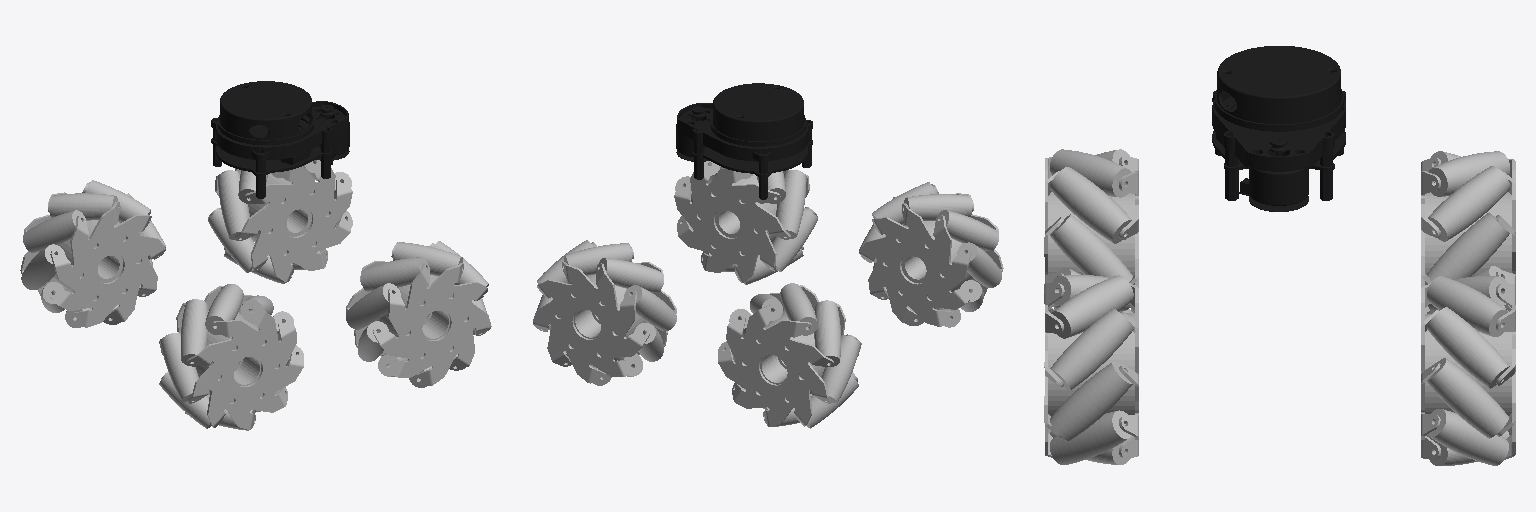
robot.urdf — rubot:
<?xml version="1.0" encoding="utf-8"?>
<!-- =================================================================================== -->
<!-- |    This document was autogenerated by xacro from rubot_mecanum.xacro            | -->
<!-- |    EDITING THIS FILE BY HAND IS NOT RECOMMENDED                                 | -->
<!-- =================================================================================== -->
<robot name="rubot">
  <material name="yellow">
    <color rgba="0.8 0.8 0.0 1.0"/>
  </material>
  <material name="black">
    <color rgba="0.15 0.15 0.15 1.0"/>
  </material>
  <material name="dark_grey">
    <color rgba="0.2 0.2 0.2 1.0"/>
  </material>
  <material name="light_grey">
    <color rgba="0.75 0.75 0.75 1.0"/>
  </material>

<!-- base_footprint reference frame without inertia is needed -->
  <link name="base_footprint"/>
<!-- base_link -->
  <joint name="base_link_joint" type="fixed">
    <origin rpy="0 0 0" xyz="0 0 0"/>
    <parent link="base_footprint"/>
    <child link="base_link"/>
  </joint>
  <link name="base_link">
    <visual>
      <origin rpy="0 0 0" xyz="0 0 0"/>
      <geometry>
        <mesh filename="package://rubot_mecanum_description/meshes/rubot/base_link.stl" scale="0.001 0.001 0.001"/>
      </geometry>
      <material name="yellow"/>
    </visual>
    <collision>
      <origin xyz="0 0 0"/>
      <geometry>
        <box size="0.23 0.12 0.05"/>
      </geometry>
    </collision>
    <inertial>
      <origin rpy="0 0 0" xyz="0 0 0"/>
      <mass value="5"/>
      <inertia ixx="0.0104" ixy="0" ixz="0" iyy="0.0292" iyz="0" izz="0.0375"/>
    </inertial>
  </link>
<!-- upper_left_wheel -->
  <joint name="upper_left_wheel_joint" type="continuous">
    <origin rpy="0 0 0" xyz="0.07 0.1 0"/>
    <parent link="base_link"/>
    <child link="upper_left_wheel"/>
    <axis xyz="0 1 0"/>
  </joint>
  <link name="upper_left_wheel">
    <visual>
      <origin rpy="0 0 0" xyz="0 0 0"/>
      <geometry>
        <mesh filename="package://rubot_mecanum_description/meshes/rubot/upper_left_wheel.stl" scale="0.001 0.001 0.001"/>
      </geometry>
      <material name="light_grey"/>
    </visual>
    <collision>
      <origin rpy="-1.57 0 0" xyz="0 0 0"/>
      <geometry>
        <cylinder length="0.03" radius="0.055"/>
      </geometry>
    </collision>
    <inertial>
      <mass value="0.2"/>
      <inertia ixx="0.000166" ixy="0" ixz="0" iyy="0.000303" iyz="0" izz="0.000166"/>
    </inertial>
  </link>
<!-- lower_left_wheel -->
  <joint name="lower_left_wheel_joint" type="continuous">
    <origin rpy="0 0 0" xyz="-0.085 0.1 0"/>
    <parent link="base_link"/>
    <child link="lower_left_wheel"/>
    <axis xyz="0 1 0"/>
  </joint>
  <link name="lower_left_wheel">
    <visual>
      <origin rpy="0 0 0" xyz="0 0 0"/>
      <geometry>
        <mesh filename="package://rubot_mecanum_description/meshes/rubot/lower_left_wheel.stl" scale="0.001 0.001 0.001"/>
      </geometry>
      <material name="light_grey"/>
    </visual>
    <collision>
      <origin rpy="-1.57 0 0" xyz="0 0 0"/>
      <geometry>
        <cylinder length="0.03" radius="0.055"/>
      </geometry>
    </collision>
    <inertial>
      <mass value="0.2"/>
      <inertia ixx="0.000166" ixy="0" ixz="0" iyy="0.000303" iyz="0" izz="0.000166"/>
    </inertial>
  </link>
<!-- upper_right_wheel -->
  <joint name="upper_right_wheel_joint" type="continuous">
    <origin rpy="0 0 3.14" xyz="0.07 -0.1 0"/>
    <parent link="base_link"/>
    <child link="upper_right_wheel"/>
    <axis xyz="0 -1 0"/>
  </joint>
  <link name="upper_right_wheel">
    <visual>
      <origin rpy="0 0 0" xyz="0 0 0"/>
      <geometry>
        <mesh filename="package://rubot_mecanum_description/meshes/rubot/upper_right_wheel.stl" scale="0.001 0.001 0.001"/>
      </geometry>
      <material name="light_grey"/>
    </visual>
    <collision>
      <origin rpy="-1.57 0 0" xyz="0 0 0"/>
      <geometry>
        <cylinder length="0.03" radius="0.055"/>
      </geometry>
    </collision>
    <inertial>
      <mass value="0.2"/>
      <inertia ixx="0.000166" ixy="0" ixz="0" iyy="0.000303" iyz="0" izz="0.000166"/>
    </inertial>
  </link>
<!-- lower_right_wheel -->
  <joint name="lower_right_wheel_joint" type="continuous">
    <origin rpy="0 0 3.14" xyz="-0.085 -0.1 0"/>
    <parent link="base_link"/>
    <child link="lower_right_wheel"/>
    <axis xyz="0 -1 0"/>
  </joint>
  <link name="lower_right_wheel">
    <visual>
      <origin rpy="0 0 0" xyz="0 0 0"/>
      <geometry>
        <mesh filename="package://rubot_mecanum_description/meshes/rubot/lower_right_wheel.stl" scale="0.001 0.001 0.001"/>
      </geometry>
      <material name="light_grey"/>
    </visual>
    <collision>
      <origin rpy="-1.57 0 0" xyz="0 0 0"/>
      <geometry>
        <cylinder length="0.03" radius="0.055"/>
      </geometry>
    </collision>
    <inertial>
      <mass value="0.2"/>
      <inertia ixx="0.000166" ixy="0" ixz="0" iyy="0.000303" iyz="0" izz="0.000166"/>
    </inertial>
  </link> -->
<!-- 2D Camera as a mesh of actual PiCamera -->
  <joint name="joint_camera" type="fixed">
    <origin rpy="0 0 0" xyz="0.120 0.0 0.09"/>
    <parent link="base_link"/>
    <child link="camera"/>
    <axis xyz="0 1 0"/>
  </joint>
  <link name="camera">
    <visual>
      <origin rpy="0 0 0" xyz="0 0 0"/>
      <geometry>
        <mesh filename="package://rubot_mecanum_description/meshes/rubot/piCamera.stl" scale="0.001 0.001 0.001"/>
      </geometry>
      <material name="black"/>
    </visual>
    <collision>
      <origin rpy="0 1.570795 0" xyz="0 0 0"/>
      <geometry>
        <box size="0.05 0.05 0.025"/>
      </geometry>
    </collision>
    <inertial>
      <origin rpy="0 1.570795 0" xyz="0 0 0"/>
      <mass value="0.01"/>
      <inertia ixx="1e-6" ixy="0" ixz="0" iyy="1e-6" iyz="0" izz="1e-6"/>
    </inertial>
  </link>
  <!-- LIDAR base_scan -->
  <link name="base_scan">
    <visual>
      <origin rpy="0 0 3.14" xyz="0 0 0.0"/>
      <geometry>
        <mesh filename="package://rubot_mecanum_description/meshes/rubot/Lidar.stl" scale="0.001 0.001 0.001"/>
      </geometry>
      <material name="black"/>
    </visual>
    <collision>
      <origin rpy="0 0 0" xyz="0 0 0"/>
      <geometry>
        <cylinder length="0.05" radius="0.05"/>
      </geometry>
    </collision>
    <inertial>
      <origin rpy="0 0 0" xyz="0 0 0.4"/>
      <mass value="0.05"/>
      <inertia ixx="0.001" ixy="0.0" ixz="0.0" iyy="0.001" iyz="0.0" izz="0.001"/>
    </inertial>
  </link>
  <joint name="scan_joint" type="fixed">
    <axis xyz="0 0 1"/>
    <origin rpy="0 0 3.14" xyz="0 0 0.15"/>
    <parent link="base_link"/>
    <child link="base_scan"/>
  </joint>
  <!-- Mecanum drive controller -->
  <gazebo>
    <plugin name="Mecanum_controller" filename="libgazebo_ros_planar_move.so">
      <commandTopic>cmd_vel</commandTopic>
      <odometryTopic>odom</odometryTopic>
      <odometryFrame>odom</odometryFrame>
      <odometrySource>world</odometrySource>
      <publishOdomTF>true</publishOdomTF>
      <odometryRate>50.0</odometryRate>
      <robotBaseFrame>base_footprint</robotBaseFrame>
      <publishWheelTF>false</publishWheelTF>
      <publishTf>true</publishTf>
      <publishWheelJointState>true</publishWheelJointState>
      <wheelAcceleration>0.5</wheelAcceleration>
      <wheelTorque>1</wheelTorque>
      <legacyMode>false</legacyMode>
      <updateRate>30</updateRate>
      <leftFrontJoint>upper_left_wheel_joint</leftFrontJoint>
      <rightFrontJoint>upper_right_wheel_joint</rightFrontJoint>
      <leftRearJoint>lower_left_wheel_joint</leftRearJoint>
      <rightRearJoint>lower_right_wheel_joint</rightRearJoint>
    </plugin>
  </gazebo>
  <!-- 2D Camera controller -->
  <gazebo reference="camera">
    <sensor name="camera1" type="camera">
      <update_rate>30.0</update_rate>
      <camera name="front">
        <horizontal_fov>1.3962634</horizontal_fov>
        <image>
          <width>320</width>
          <height>240</height>
          <format>R8G8B8</format>
        </image>
        <clip>
          <near>0.02</near>
          <far>300</far>
        </clip>
      </camera>
      <plugin filename="libgazebo_ros_camera.so" name="camera_controller">
        <alwaysOn>true</alwaysOn>
        <visualize>false</visualize>
        <cameraName>rubot/camera1</cameraName>
        <imageTopicName>image_raw</imageTopicName>
        <cameraInfoTopicName>camera_info</cameraInfoTopicName>
        <frameName>camera</frameName>
        <hackBaseline>0.07</hackBaseline>
        <distortionK1>0.0</distortionK1>
        <distortionK2>0.0</distortionK2>
        <distortionK3>0.0</distortionK3>
        <distortionT1>0.0</distortionT1>
        <distortionT2>0.0</distortionT2>
      </plugin>
    </sensor>
  </gazebo>
  <!-- Laser Distance Sensor YDLIDAR X4 controller-->
  <gazebo reference="base_scan">
    <sensor name="lds_lfcd_sensor" type="ray">
      <pose>0 0 0 0 0 0</pose>
      <visualize>false</visualize>
      <update_rate>5</update_rate>
      <ray>
        <scan>
          <horizontal>
            <samples>720</samples>
            <resolution>1</resolution>
            <min_angle>0.0</min_angle>
            <max_angle>6.28319</max_angle>
          </horizontal>
        </scan>
        <range>
          <min>0.12</min>
          <max>10</max>
          <resolution>0.015</resolution>
        </range>
        <noise>
          <type>gaussian</type>
          <!-- Noise parameters based on published spec for YDLIDAR X4
              is 1.5% at half range 4m (= 60mm, "+-160mm" accuracy at max. range 8m).
              A mean of 0.0m and stddev of 0.020m will put 99.7% of samples
              within 0.16m of the true reading. -->
          <mean>0.0</mean>
          <stddev>0.02</stddev>
        </noise>
      </ray>
      <plugin filename="libgazebo_ros_laser.so" name="gazebo_ros_lds_lfcd_controller">
        <!-- topicName>/gopigo/scan</topicName -->
        <topicName>scan</topicName>
        <frameName>base_scan</frameName>
      </plugin>
    </sensor>
  </gazebo>
<!-- Gazebo colors have to be specified here with predefined Gazebo colors -->
  <gazebo reference="base_footprint">
    <material>Gazebo/Yellow</material>
    <gravity>true</gravity>
  </gazebo>
  <gazebo reference="base_link">
    <material>Gazebo/Yellow</material>
  </gazebo>
  <gazebo reference="base_scan">
    <material>Gazebo/DarkGrey</material>
  </gazebo>
  <gazebo reference="camera">
    <material>Gazebo/Green</material>
  </gazebo>
  <gazebo reference="upper_left_wheel">
    <material>Gazebo/Grey</material>
    <mu1>1</mu1>
    <mu2>10</mu2>
    <kp>1000</kp>
    <ki>100</ki>
    <kd>1</kd>
    <minDepth>0.001</minDepth>
    <maxVel>0.5</maxVel>
    <fdir1>1 0 0</fdir1>
  </gazebo>
  <gazebo reference="lower_left_wheel">
    <material>Gazebo/Grey</material>
    <mu1>0.5</mu1>
    <mu2>0.5</mu2>
    <kp>1000</kp>
    <ki>100</ki>
    <kd>1</kd>
    <minDepth>0.001</minDepth>
    <maxVel>0.5</maxVel>
    <fdir1>1 0 0</fdir1>
  </gazebo>
  <gazebo reference="upper_right_wheel">
    <material>Gazebo/Grey</material>
    <mu1>1</mu1>
    <mu2>10</mu2>
    <kp>1000</kp>
    <ki>100</ki>
    <kd>1</kd>
    <minDepth>0.001</minDepth>
    <maxVel>0.5</maxVel>
    <fdir1>1 0 0</fdir1>
  </gazebo>
  <gazebo reference="lower_right_wheel">
    <material>Gazebo/Grey</material>
    <mu1>0.5</mu1>
    <mu2>0.5</mu2>
    <kp>1000</kp>
    <ki>100</ki>
    <kd>1</kd>
    <minDepth>0.001</minDepth>
    <maxVel>0.5</maxVel>
    <fdir1>1 0 0</fdir1>
  </gazebo>
</robot>

--- What the picture shows (computed from the rendered views, not written in the file) ---
The picture shows the robot from 3 angles, left to right: view 1: azimuth 30°, elevation 25°; view 2: azimuth 150°, elevation 25°; view 3: azimuth 270°, elevation 25°; orthographic projection.
Model rubot with 8 links and 7 joints (4 continuous, 3 fixed), rooted at base_footprint, posed all joints at 0.
Visible links, largest first — view 1: lower_right_wheel, upper_right_wheel, lower_left_wheel, upper_left_wheel, base_scan; view 2: lower_left_wheel, upper_left_wheel, lower_right_wheel, upper_right_wheel, base_scan; view 3: base_scan, upper_left_wheel, upper_right_wheel, lower_right_wheel, lower_left_wheel.
Link boxes in pixels (x1,y1,x2,y2): lower_right_wheel: (159, 284, 303, 430); upper_right_wheel: (346, 241, 491, 387); lower_left_wheel: (20, 180, 165, 327); upper_left_wheel: (208, 160, 352, 283); base_scan: (211, 81, 349, 198); lower_left_wheel: (718, 283, 861, 428); upper_left_wheel: (533, 240, 676, 385); lower_right_wheel: (859, 182, 1003, 327); upper_right_wheel: (674, 161, 817, 284); base_scan: (676, 83, 812, 199); base_scan: (1212, 46, 1345, 211); upper_left_wheel: (1421, 276, 1515, 465); upper_right_wheel: (1044, 275, 1138, 464); lower_right_wheel: (1044, 149, 1138, 312); lower_left_wheel: (1421, 151, 1515, 313).
Bounding box of the posed robot: 0.257 × 0.2501 × 0.1936 m (x, y, z).
Meshes: 7 distinct files referenced, 5 mesh visuals loaded (5 binary STL); not drawn: 2 (reference not matched to a file when rendering).
